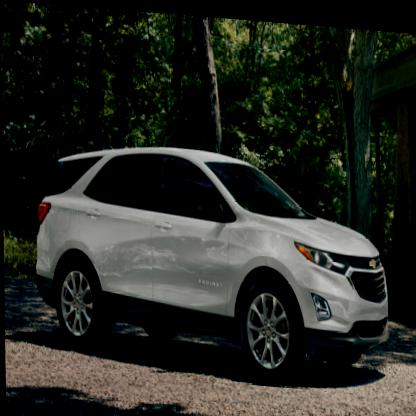Car: (34, 135, 389, 385)
